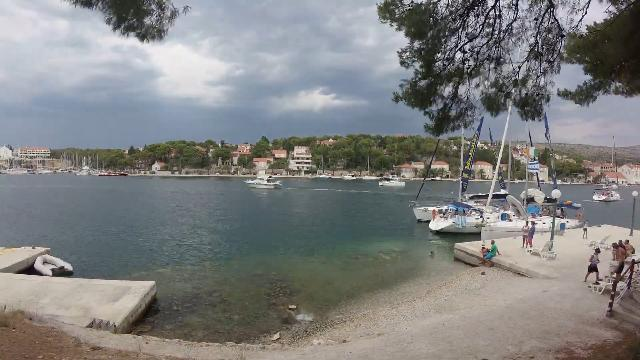Sailboat: (376, 169, 408, 191)
ferry: (242, 166, 288, 194)
